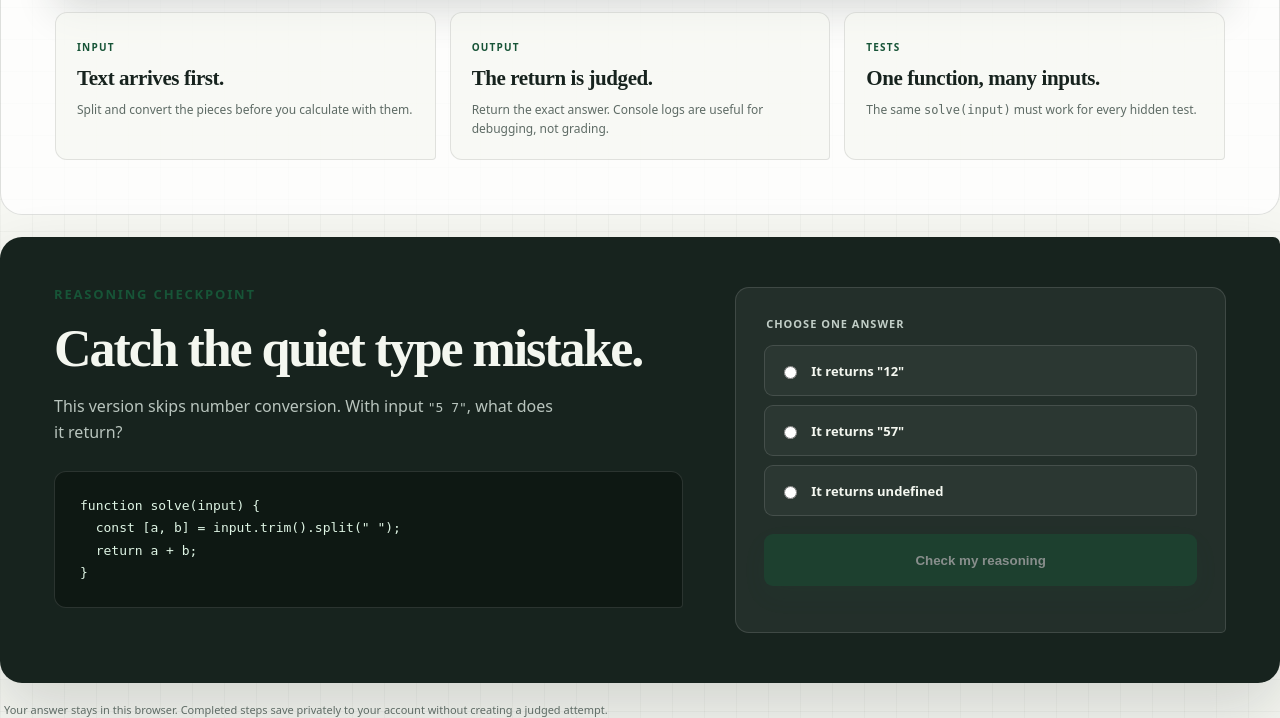
Test: JavaScriptJudgeBasics › keeps the next step locked when private saving fails
(page scrolled)
What coordinates should you click on to do the following:
click the radio button labelled "It returns \"57\""
I would click on:
 (791, 432)
Its box is [784, 426, 797, 439].
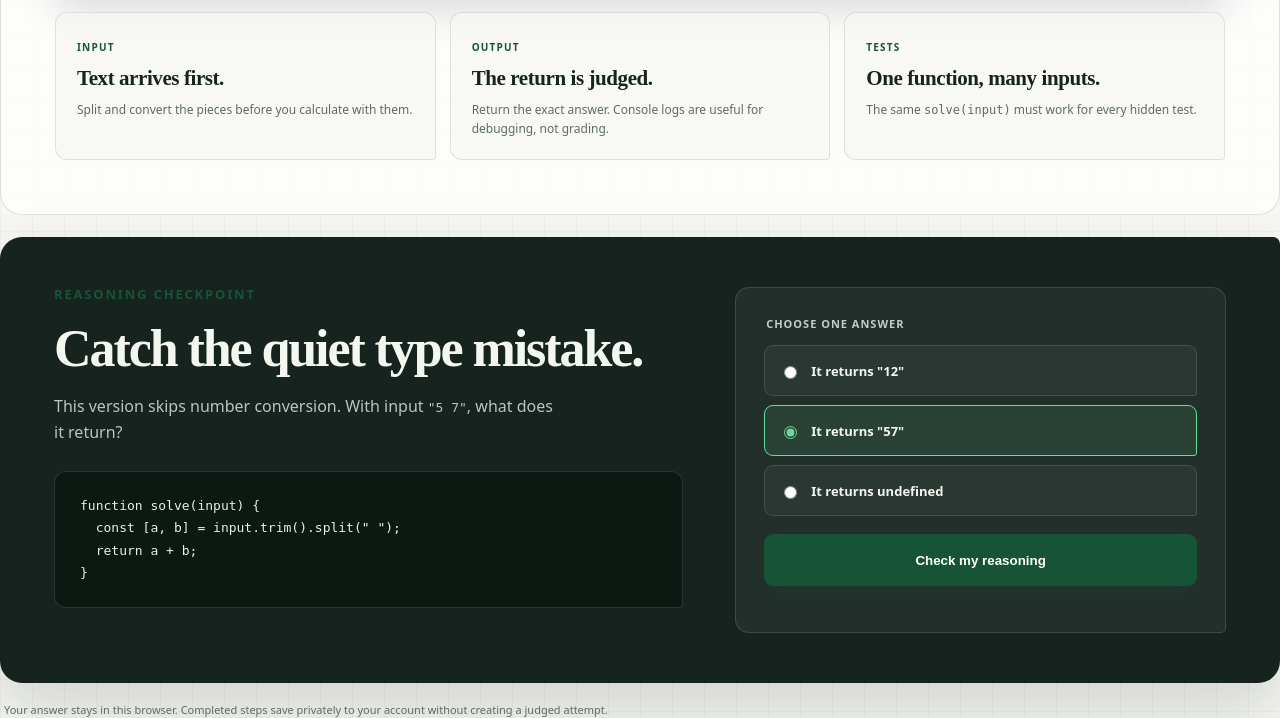
What coordinates should you click on to do the following:
click the button "Check my reasoning"
I would click on:
 (981, 560)
Its box is [764, 534, 1197, 586].
(page scrolled)
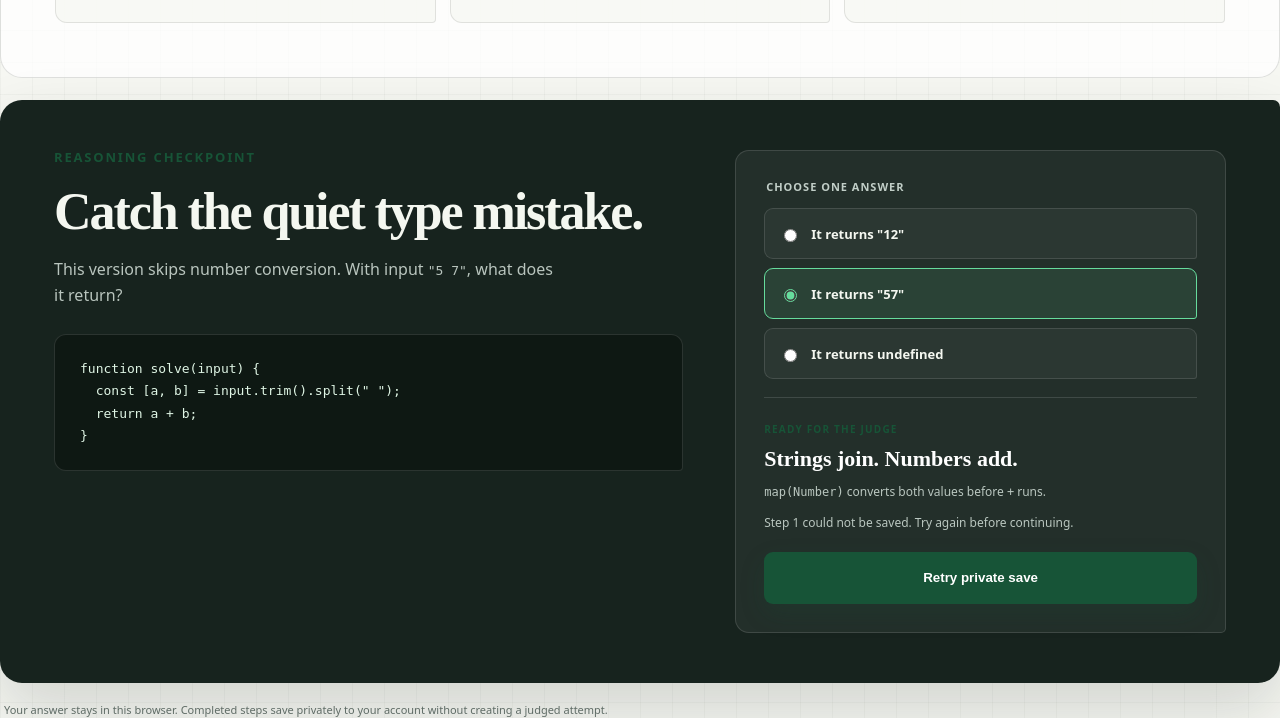
Check: the text "Step 1 could not be saved. Try again before continuing." is shown, box [764, 514, 1074, 531]
Check: the button "Retry private save" is shown, box [764, 552, 1197, 604]
